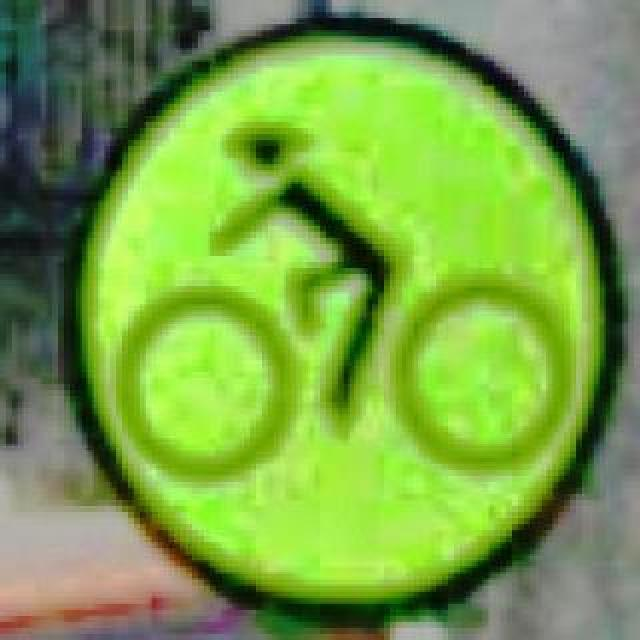bike lane: (64, 6, 616, 616)
